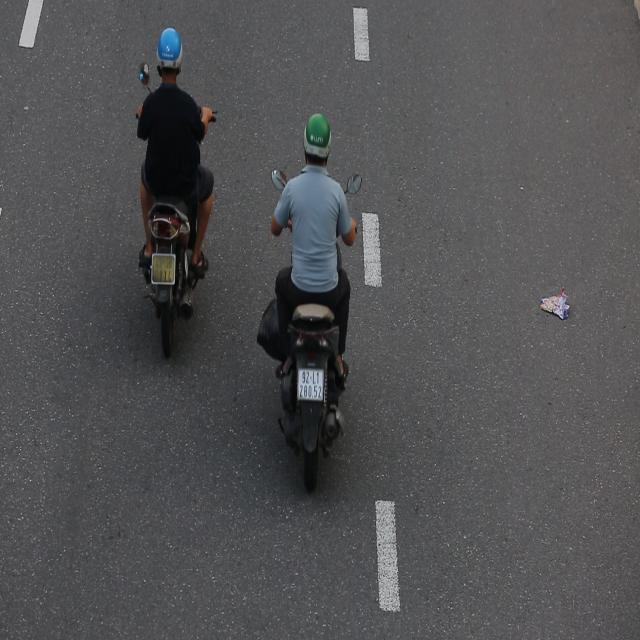motorbike: (257, 97, 367, 499), (121, 20, 221, 379)
